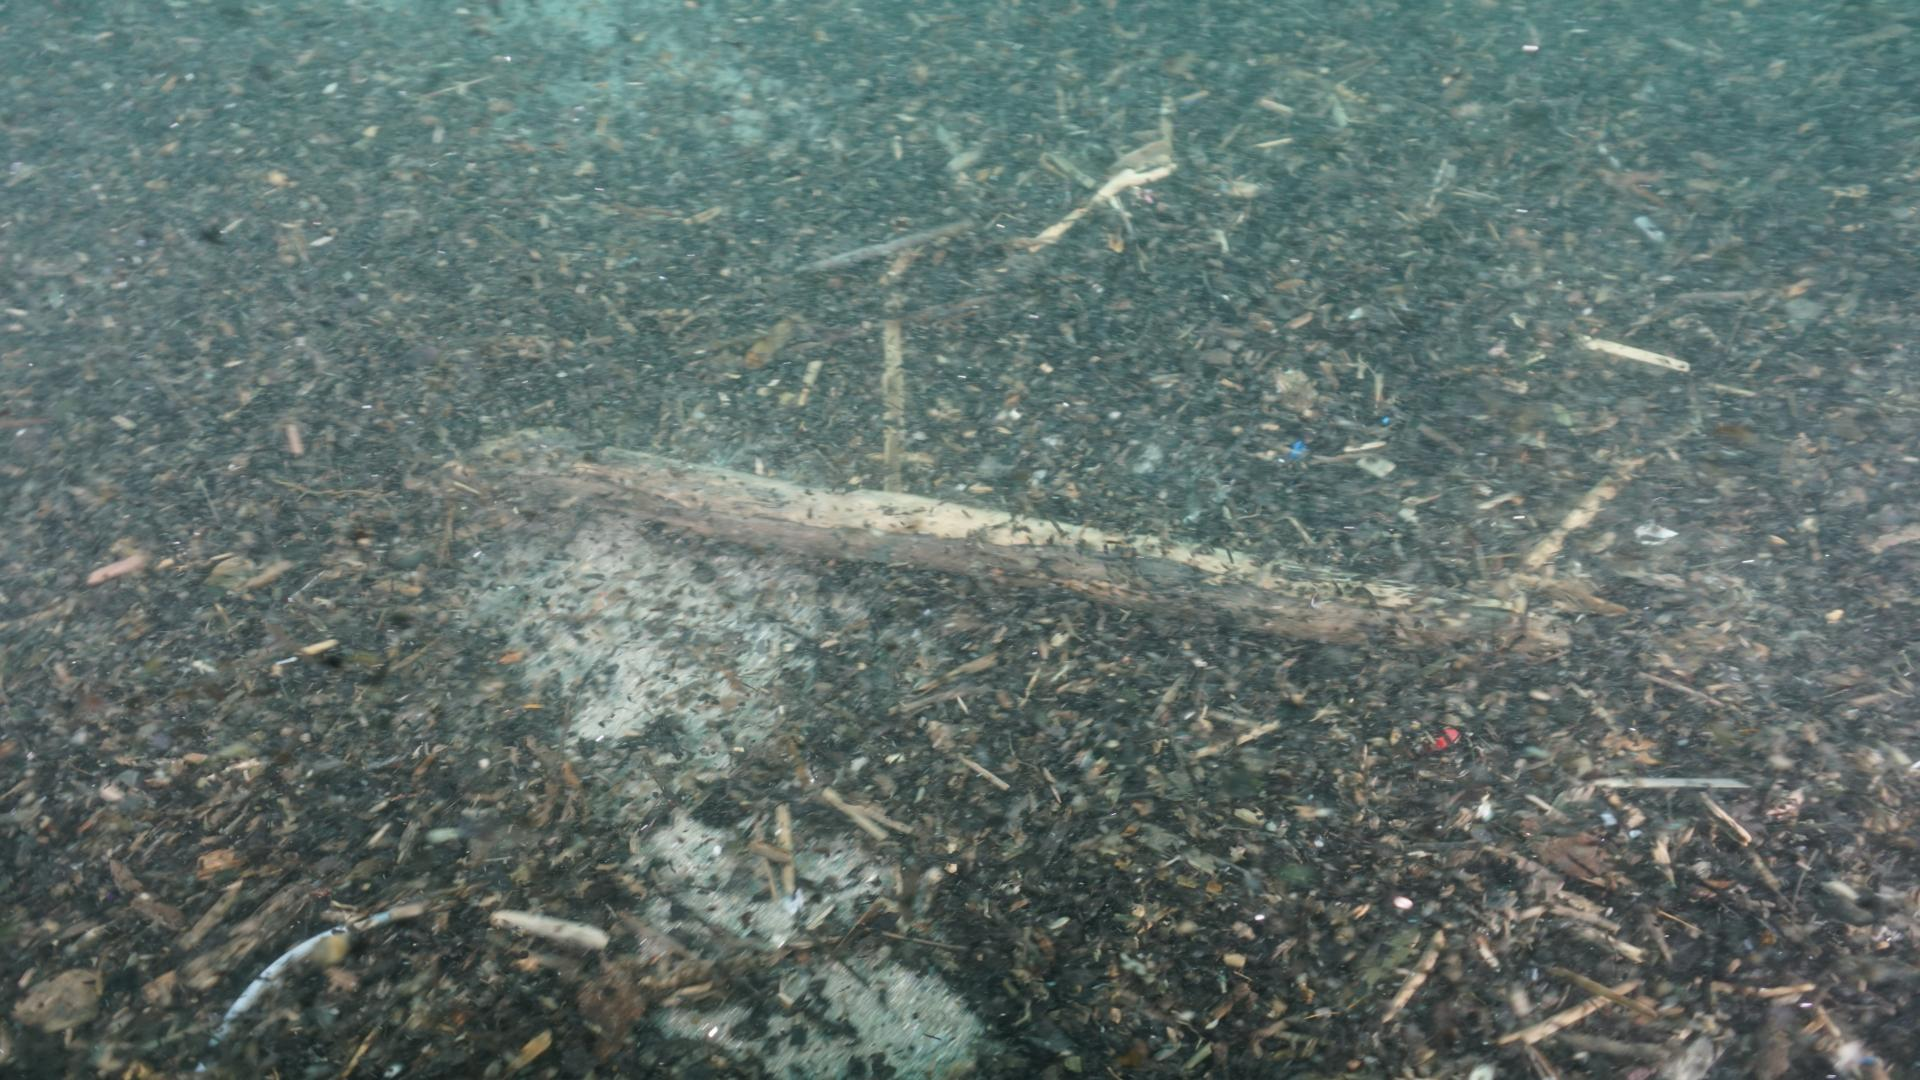wood: (522, 444, 1575, 673)
